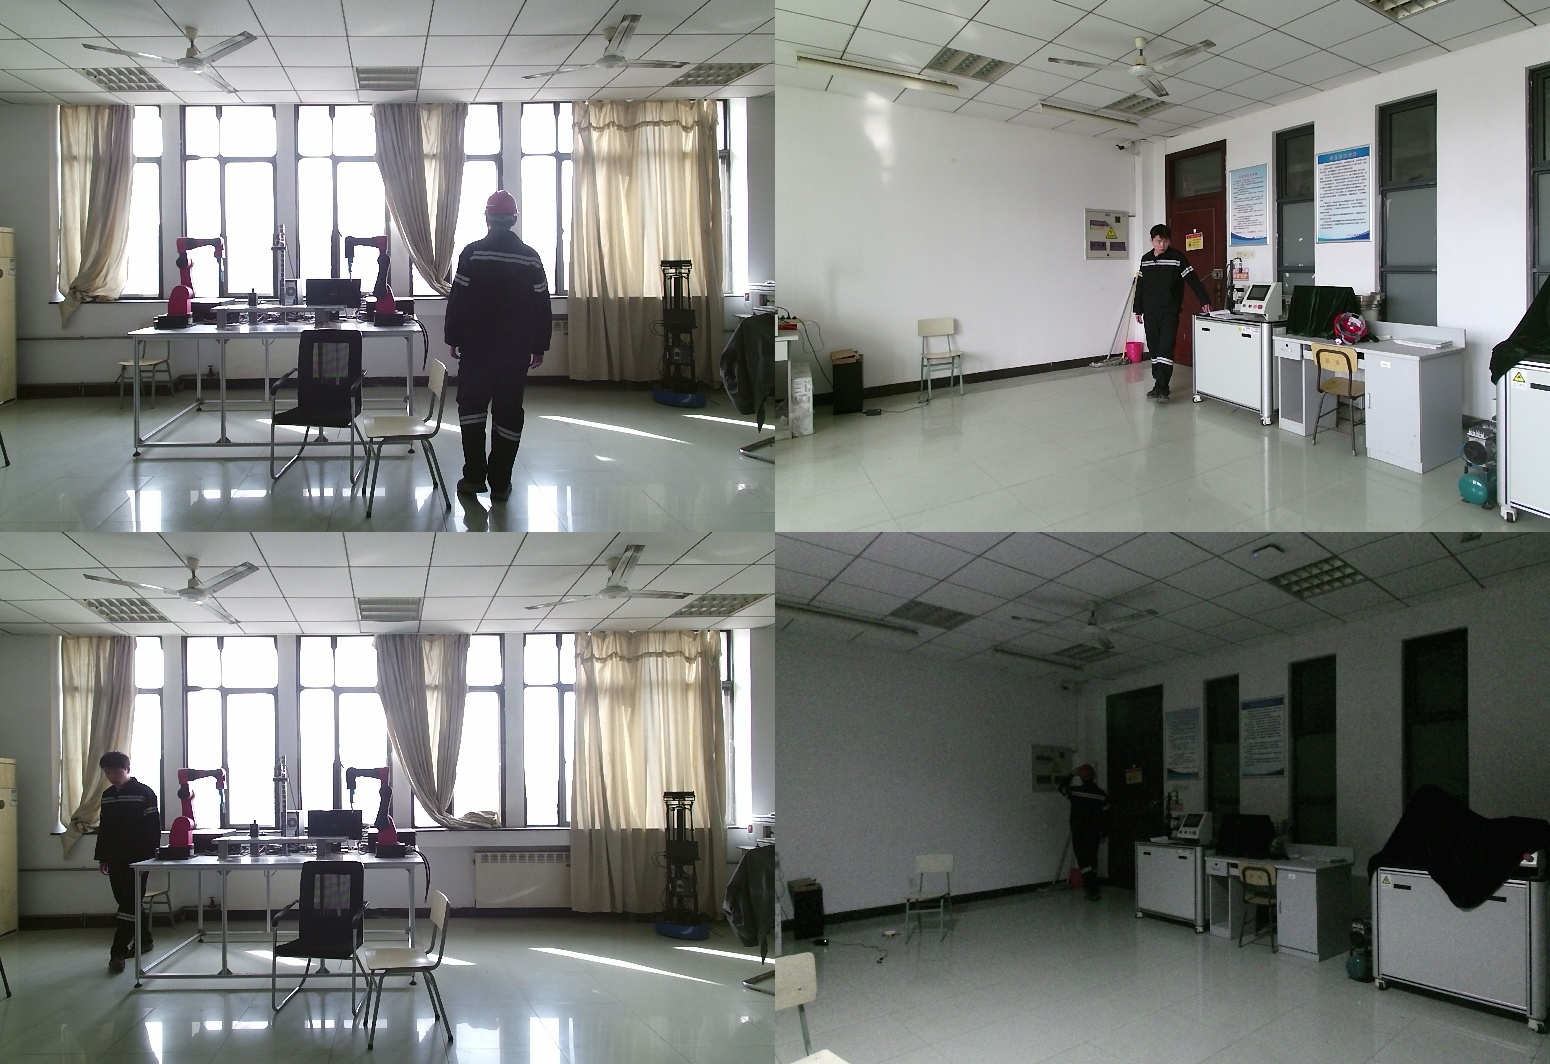person: (448, 190, 556, 532), (90, 752, 166, 969), (1137, 226, 1213, 408), (1056, 768, 1118, 904)
